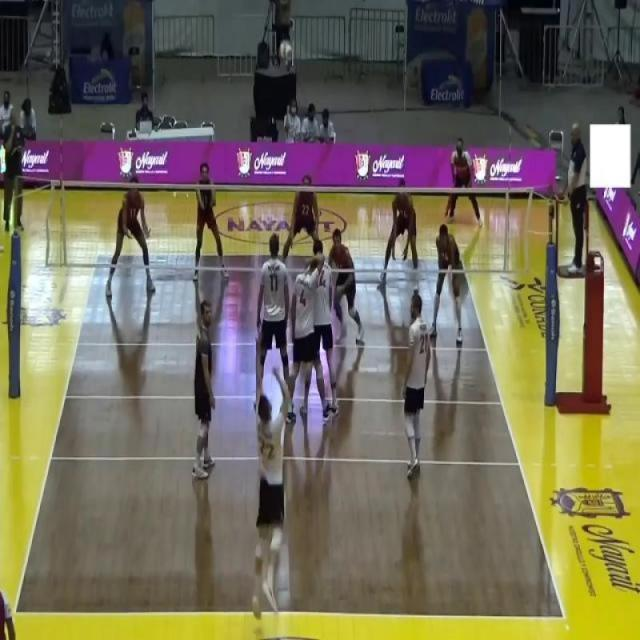volleyball: (279, 40, 293, 62)
